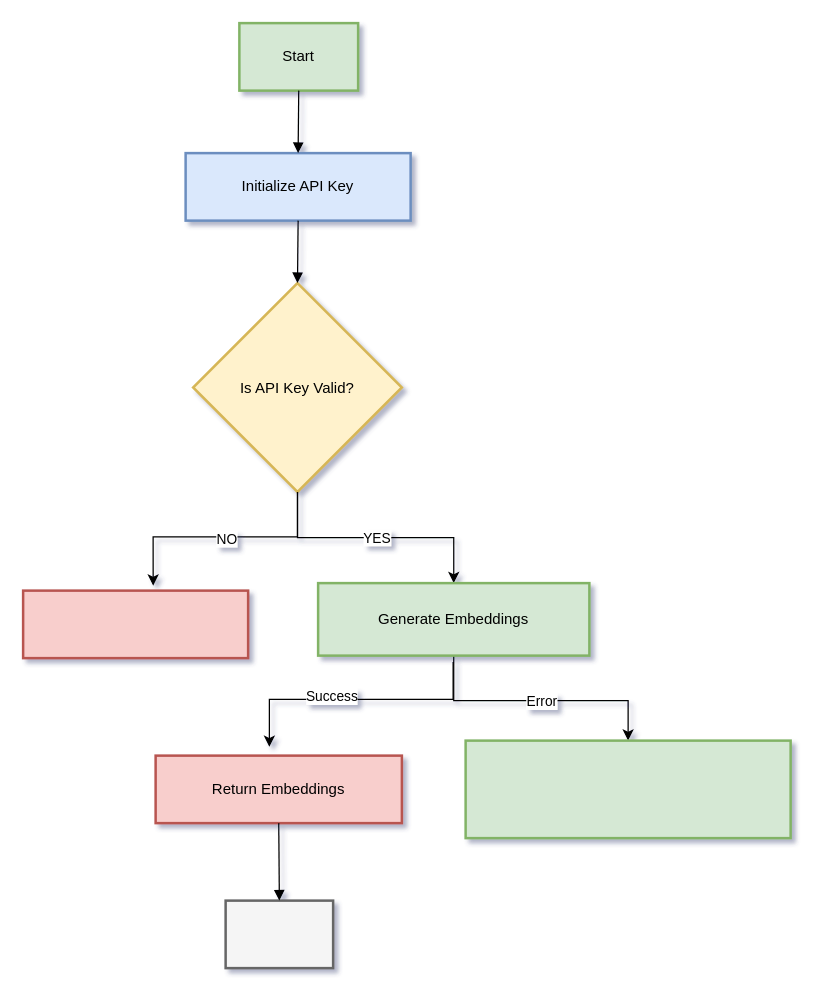
This 820x998 diagram has some shape labels left out. Here are the shapes that lost their labels. From the top down, the box of each, then its label:
(21, 589, 249, 659): Throw Exception
(464, 739, 791, 839): Log Error & Throw Exception
(224, 899, 334, 969): End
